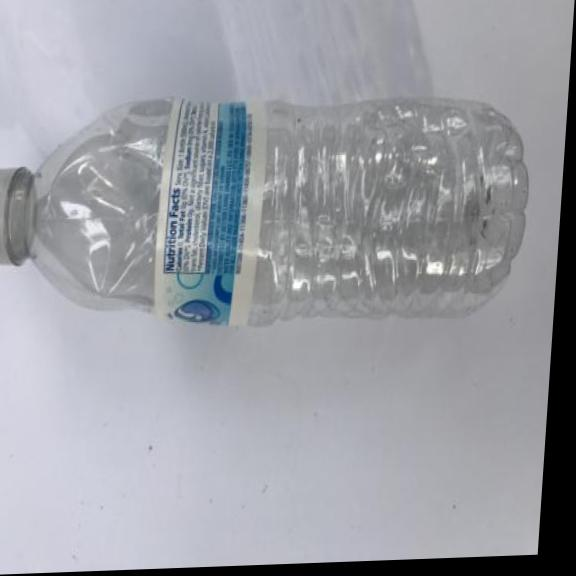Plastik: (0, 74, 540, 348)
